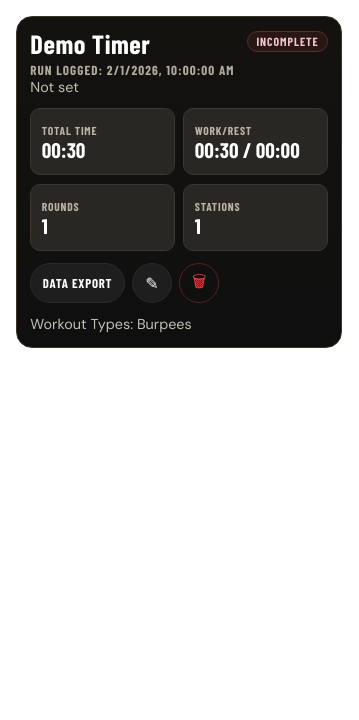
Test: HistoryPage › defaults edit location to the coach default location when class location is null
Expected: the link "Demo Timer" is shown, [30,31,150,57]
What coordinates should you click on to do the following:
click the button named "Edit"
I would click on:
 (152, 283)
Its box is [132,263,172,304].
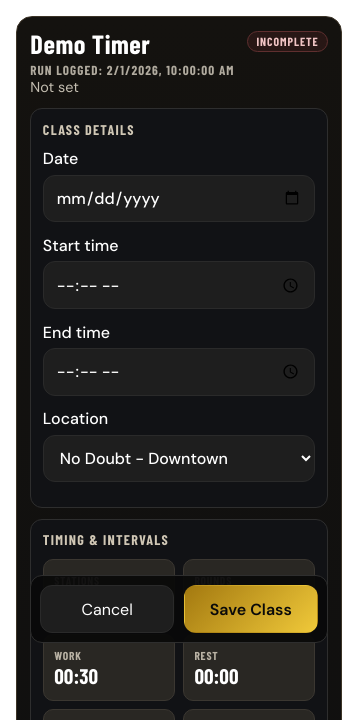
Result: the dropdown named "Class location" shows "No Doubt - Downtown" at [43,435,315,482]
